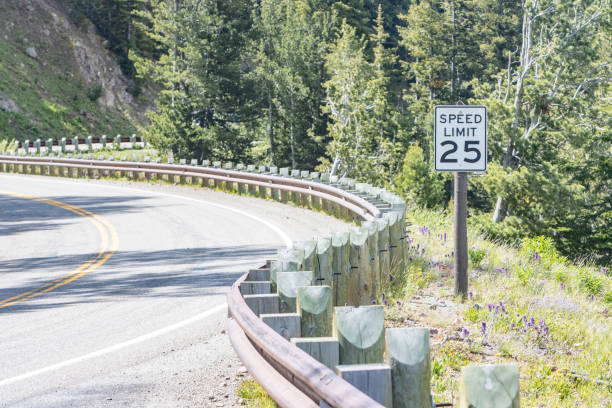SpeedLimitSign: (433, 104, 486, 171)
